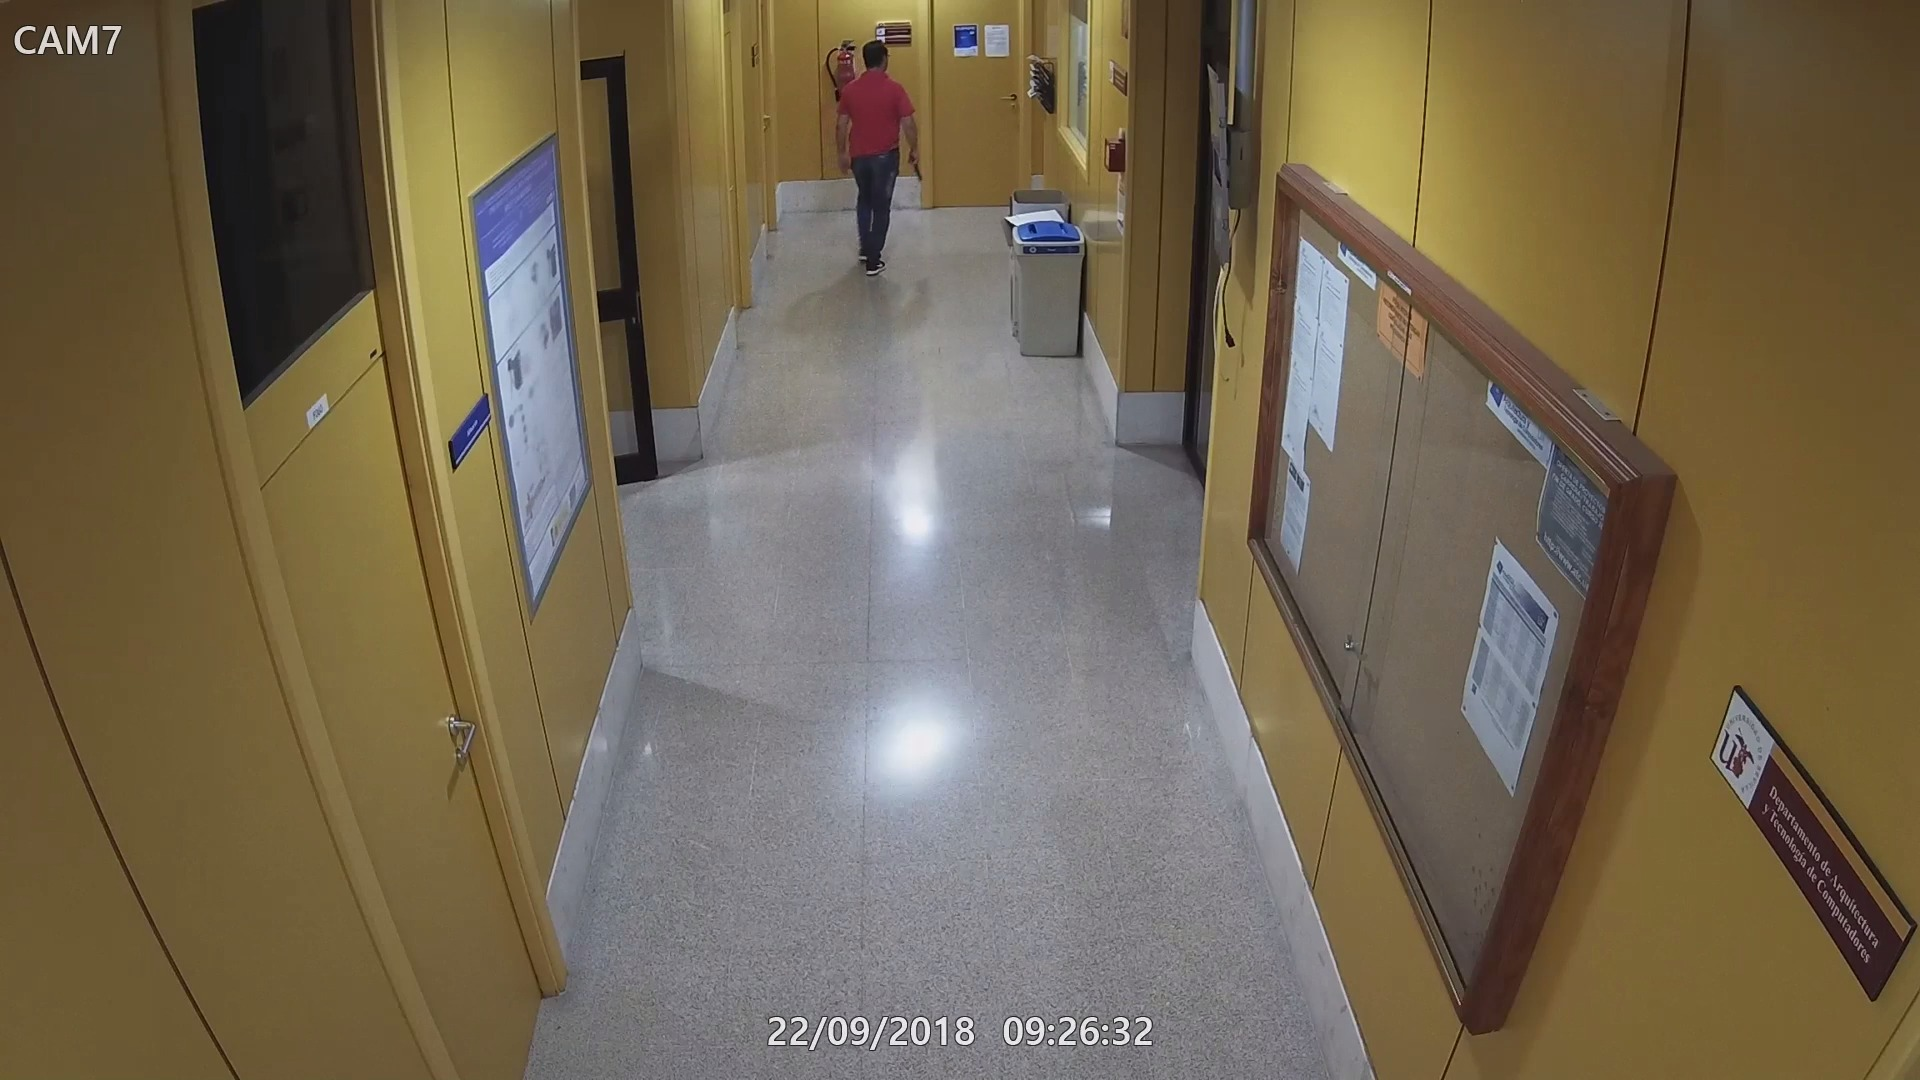Handgun: (902, 146, 928, 185)
